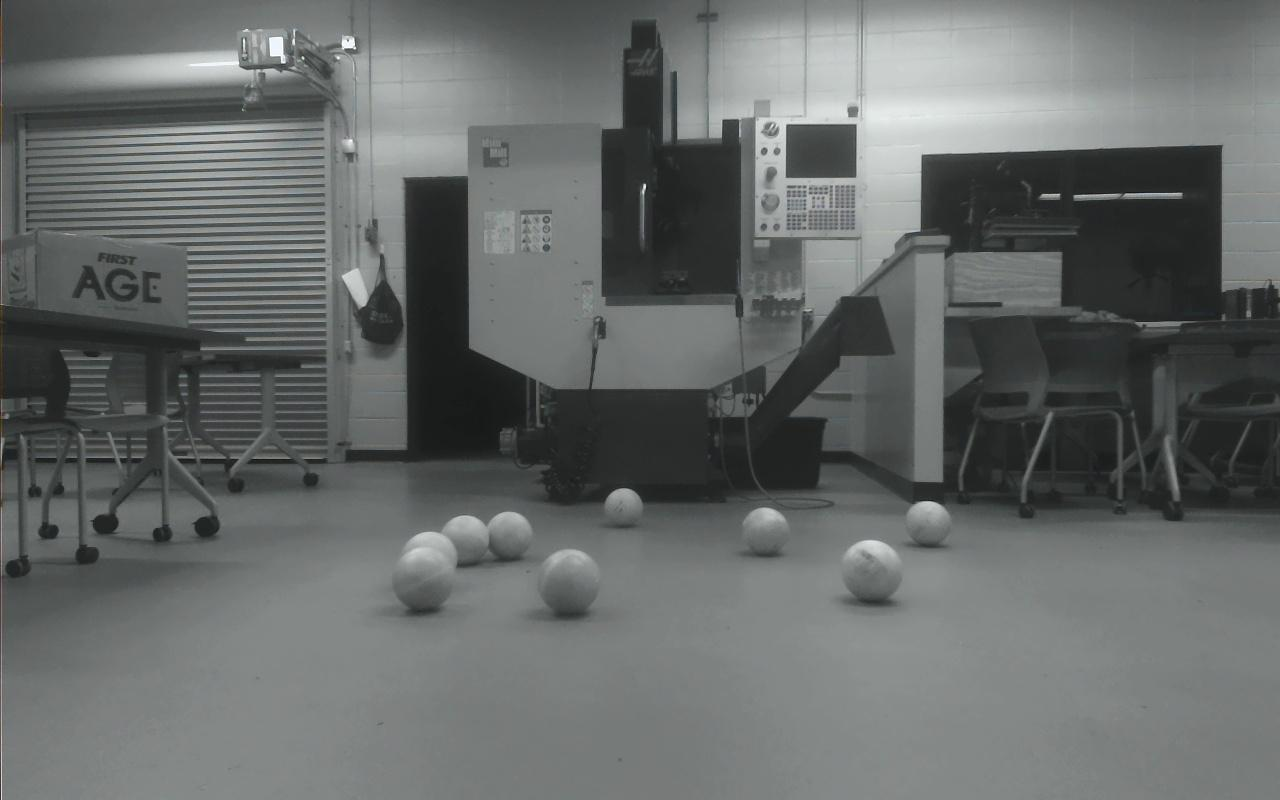Fuel: (538, 549, 600, 617), (390, 548, 454, 613), (840, 539, 904, 603), (402, 532, 456, 590), (440, 515, 490, 566), (488, 512, 534, 561), (742, 508, 788, 556), (905, 501, 951, 547), (604, 488, 643, 528)
